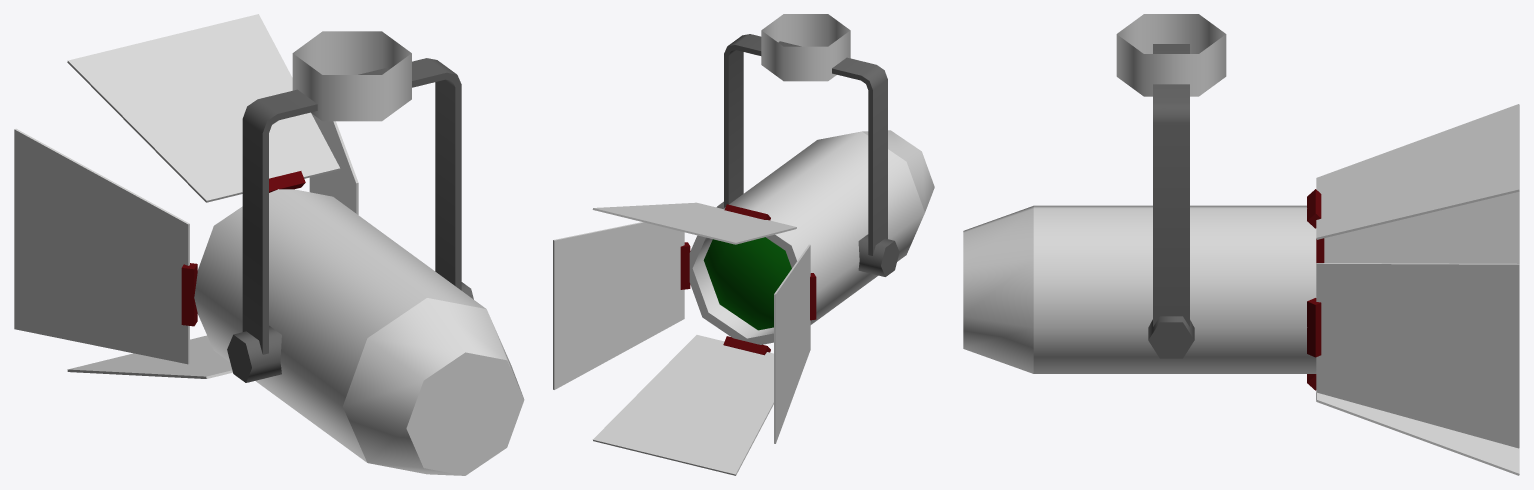
The model's file is foco.fbx.
3 renders of one model, left to right at view 1: azimuth 30°, elevation 25°; view 2: azimuth 150°, elevation 25°; view 3: azimuth 270°, elevation 25°, orthographic. The views are drawn at different scales.
Parts seen in each view (by area): view 1: focus final.001, focus final; view 2: focus final.001, focus final; view 3: focus final.001, focus final.
Part boxes in pixels (x1,y1,x2,y2): focus final.001: [14, 14, 524, 475]; focus final: [227, 31, 473, 382]; focus final.001: [553, 130, 934, 475]; focus final: [716, 14, 899, 276]; focus final.001: [963, 104, 1519, 475]; focus final: [1116, 14, 1226, 358].
Size of the model in its own units: 93.52 by 130 by 165.
